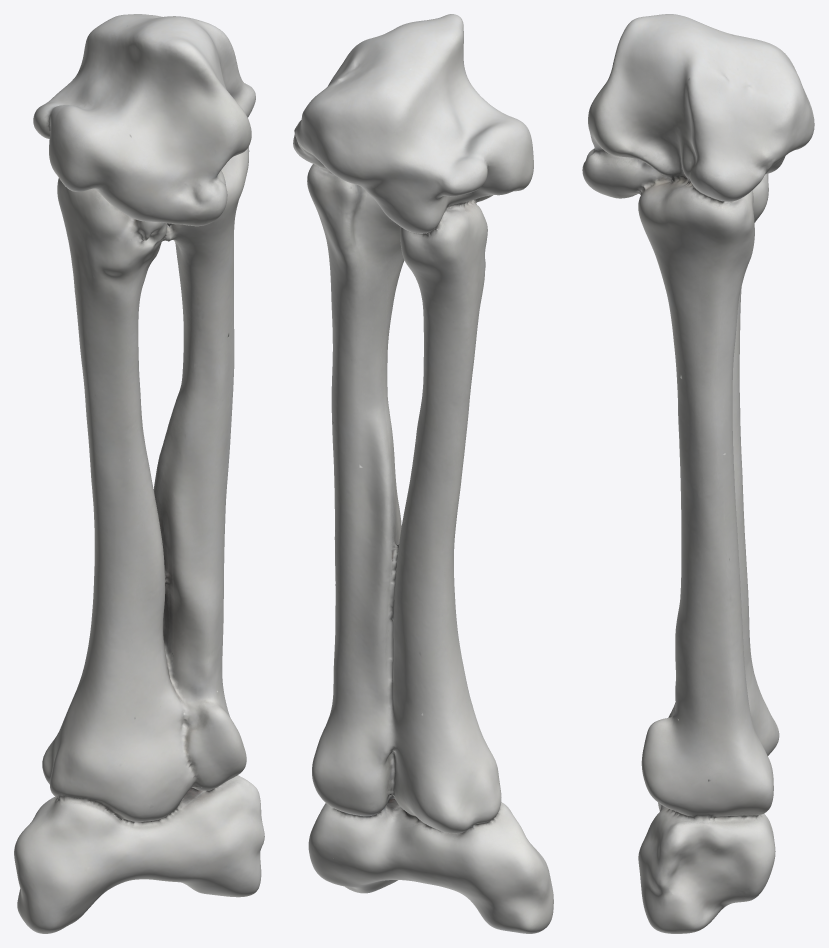
Rendered from Meshy_AI_Highly_detailed_human_0422031333_texture.glb.
The picture shows the model from 3 angles, left to right: view 1: azimuth 30°, elevation 25°; view 2: azimuth 150°, elevation 25°; view 3: azimuth 270°, elevation 25°; orthographic projection.
Bounding box in the file's own units: 0.5745 × 2 × 0.4805.
1 material, 1 textured.
